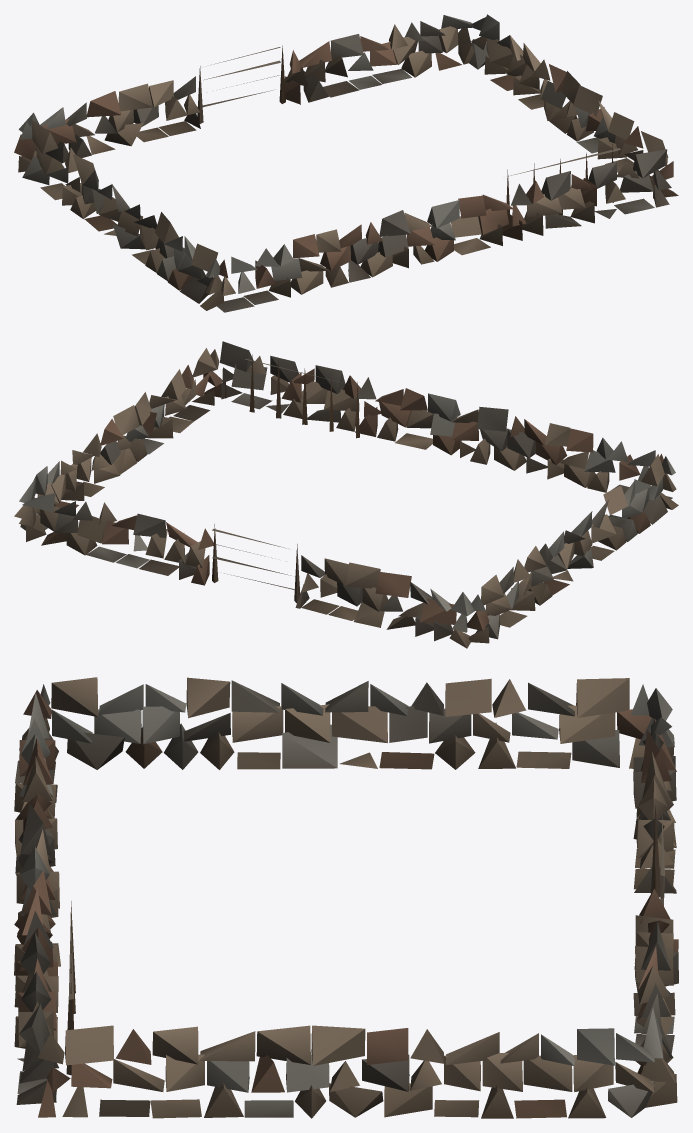
File: casa_corral_pirca_b_lod.glb
3 renders of one model, top to bottom at view 1: azimuth 30°, elevation 25°; view 2: azimuth 150°, elevation 25°; view 3: azimuth 270°, elevation 25°, orthographic. The views are drawn at different scales.
Parts seen in each view (by area): view 1: casa_corral_pirca_b; view 2: casa_corral_pirca_b; view 3: casa_corral_pirca_b.
Boxes of the visible parts, x1=… form: casa_corral_pirca_b: x1=14, y1=14, x2=678, y2=312; casa_corral_pirca_b: x1=14, y1=341, x2=678, y2=648; casa_corral_pirca_b: x1=14, y1=677, x2=678, y2=1118.
Bounding box in the file's own units: 12.69 × 1.5 × 9.67.
